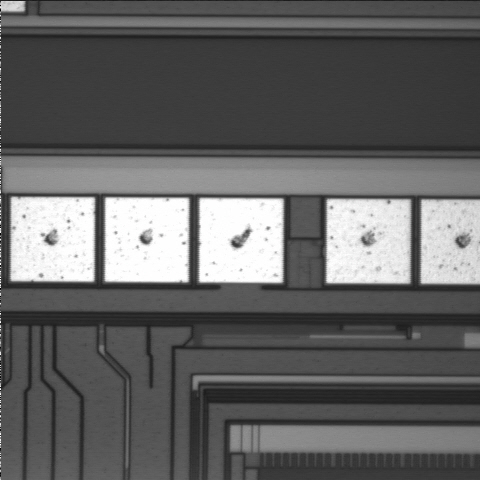pad: (11, 197, 95, 282), (105, 197, 189, 282), (199, 198, 283, 283), (326, 199, 410, 283)
